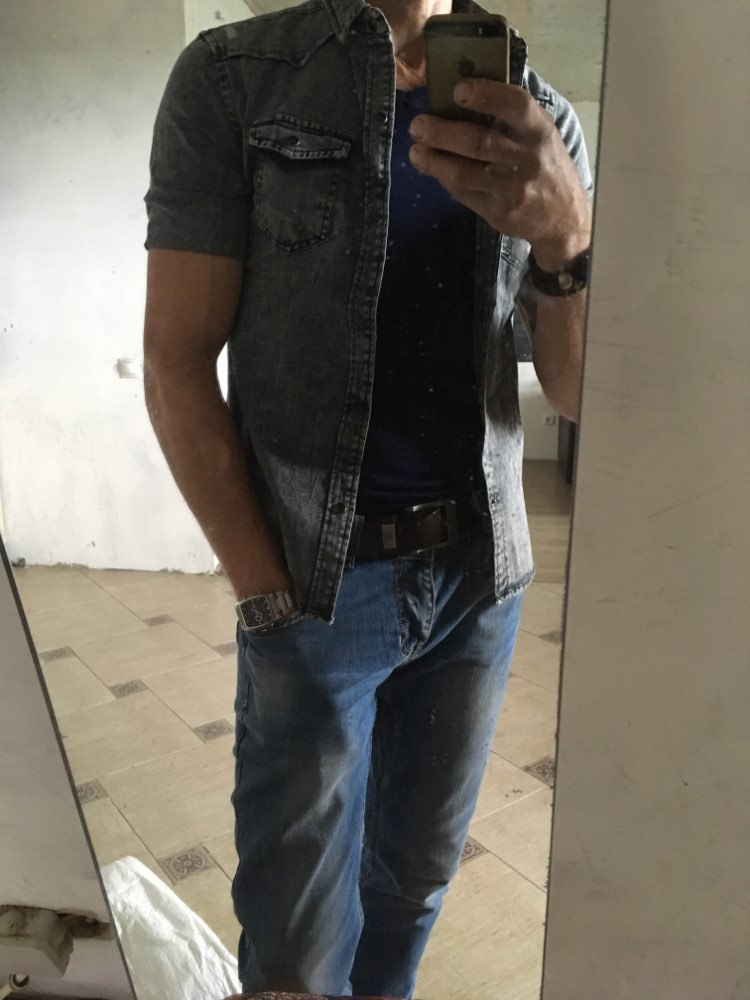shirts: (152, 10, 593, 609)
